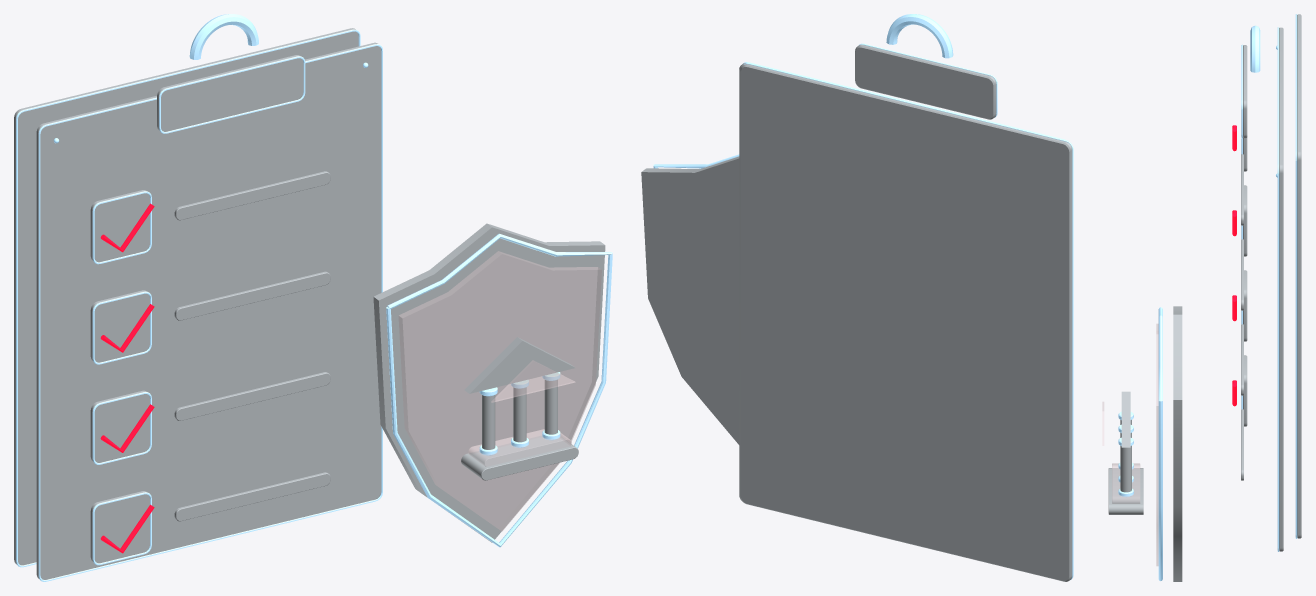
The model's file is 19-compliance.glb.
The picture shows the model from 3 angles, left to right: view 1: azimuth 30°, elevation 25°; view 2: azimuth 150°, elevation 25°; view 3: azimuth 270°, elevation 25°; orthographic projection. The views are drawn at different scales.
Visible parts, largest first — view 1: BC thin clear technical glass, BC subtle ruby technical glass, BC cool glass edge, BC ruby signal edge; view 2: BC thin clear technical glass, BC cool glass edge; view 3: BC thin clear technical glass, BC cool glass edge, BC subtle ruby technical glass, BC ruby signal edge.
Boxes of the visible parts, <box> form: BC thin clear technical glass: <box>14,28,605,579</box>; BC subtle ruby technical glass: <box>398,251,601,531</box>; BC cool glass edge: <box>16,14,612,581</box>; BC ruby signal edge: <box>100,203,154,553</box>; BC thin clear technical glass: <box>641,44,1072,581</box>; BC cool glass edge: <box>653,14,1073,579</box>; BC thin clear technical glass: <box>1108,14,1301,581</box>; BC cool glass edge: <box>1118,14,1297,580</box>; BC subtle ruby technical glass: <box>1102,323,1158,566</box>; BC ruby signal edge: <box>1232,125,1236,406</box>.
Size of the model in its own units: 1.96 by 1.98 by 0.7712.
